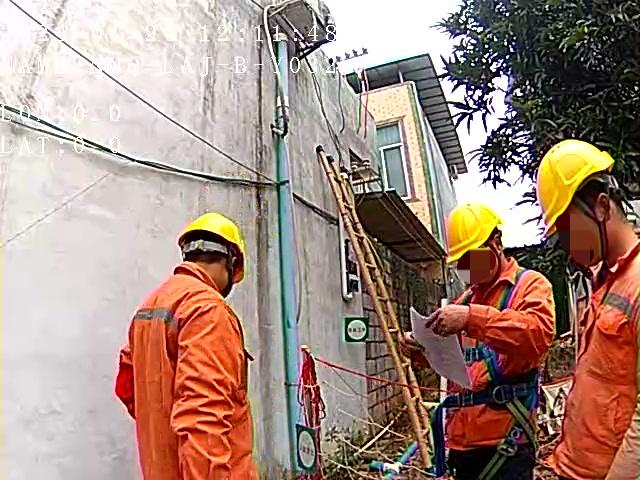halt: (538, 142, 624, 260), (178, 215, 251, 295), (448, 202, 510, 285)
inear: (578, 182, 624, 241), (486, 233, 510, 268)
